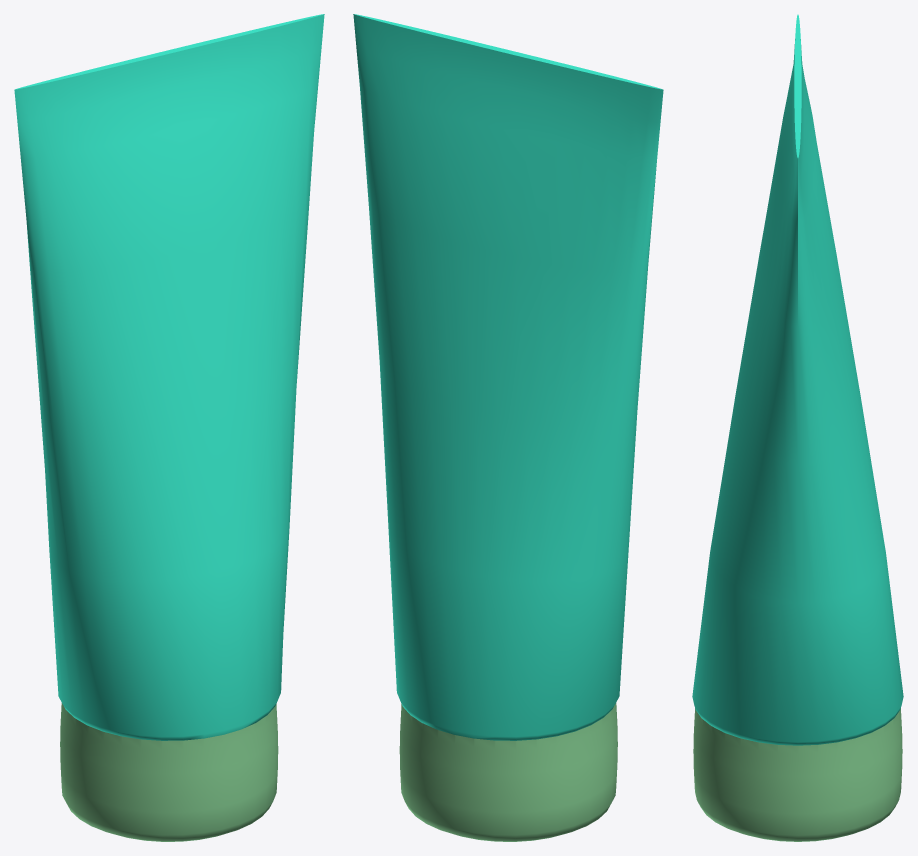
3 views of the same model, side by side, from view 1: azimuth 30°, elevation 25°; view 2: azimuth 150°, elevation 25°; view 3: azimuth 270°, elevation 25° (orthographic). The views are drawn at different scales.
Parts seen in each view (by area): view 1: Cuerpo_Cuerpo_0, Tapa_Tapa_0; view 2: Cuerpo_Cuerpo_0, Tapa_Tapa_0; view 3: Cuerpo_Cuerpo_0, Tapa_Tapa_0.
Part boxes in pixels (x1,y1,x2,y2): Cuerpo_Cuerpo_0: (14,14,324,740); Tapa_Tapa_0: (60,703,278,841); Cuerpo_Cuerpo_0: (353,14,663,740); Tapa_Tapa_0: (399,703,617,841); Cuerpo_Cuerpo_0: (692,14,903,745); Tapa_Tapa_0: (693,708,902,841).
Bounding box in the file's own units: 0.4311 × 1 × 0.2659.
